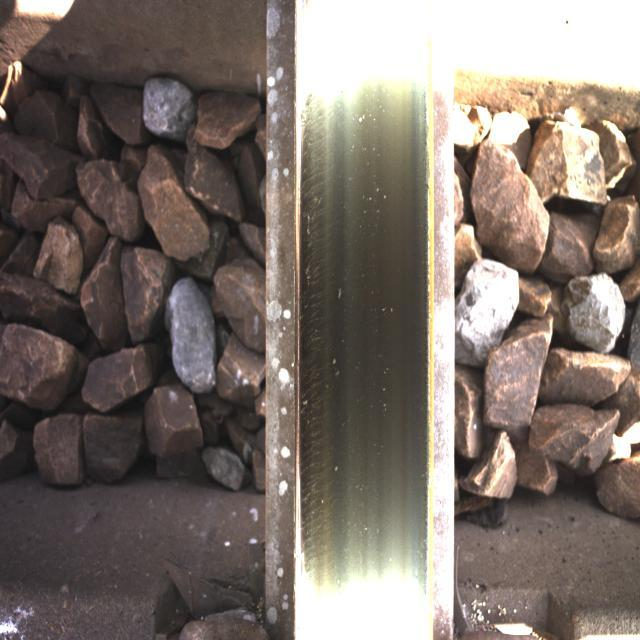break: (306, 87, 412, 588)
